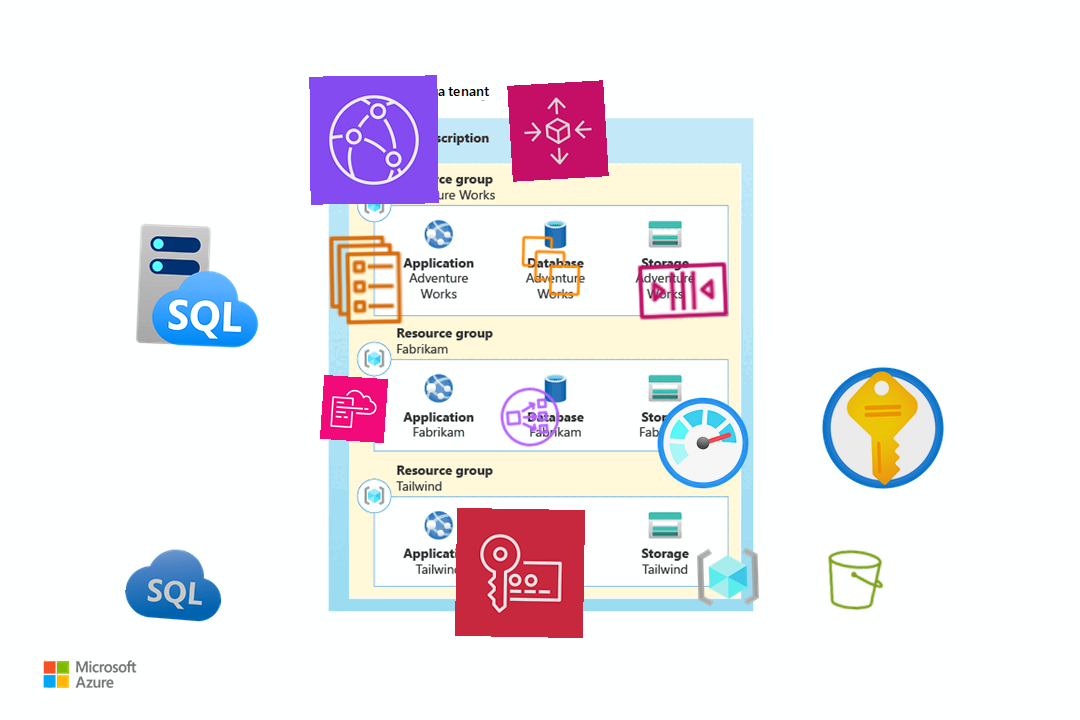aws_amazon_cloudfront: (309, 75, 439, 205)
aws_auto_scaling: (507, 80, 609, 182)
aws_cloudformation: (319, 374, 389, 444)
aws_ec2_instances: (518, 233, 584, 299)
aws_elastic_container_service_service: (317, 231, 415, 329)
aws_elastic_load_balancing_network_load_balancer: (495, 382, 565, 452)
aws_key_management_service: (454, 507, 586, 639)
aws_simple_queue_service_queue: (633, 240, 733, 340)
aws_simple_storage_service_bucket: (820, 545, 890, 615)
azure_key_vaults: (816, 361, 950, 495)
azure_monitor: (651, 391, 755, 495)
azure_resource_groups: (695, 544, 761, 610)
azure_sql: (122, 534, 226, 638)
azure_sql_managed_instance: (132, 219, 266, 353)
